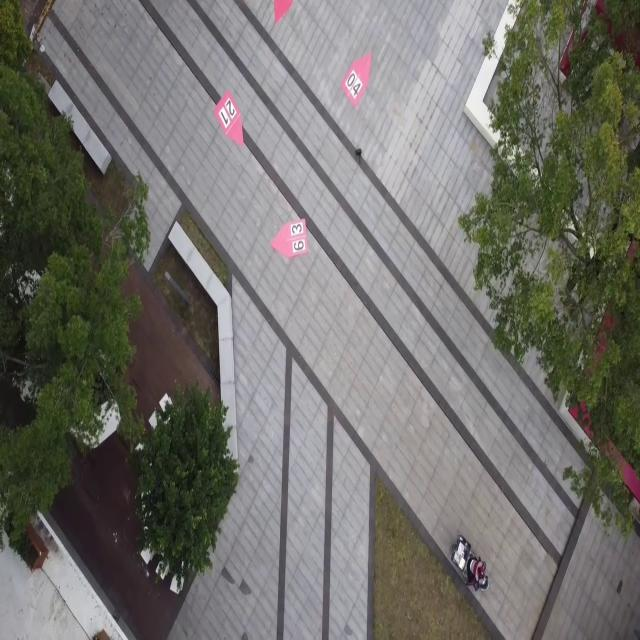-sign-: (336, 33, 377, 128), (268, 213, 320, 269), (210, 84, 248, 157)
